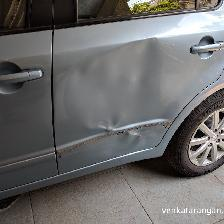dent: (0, 18, 224, 207)
